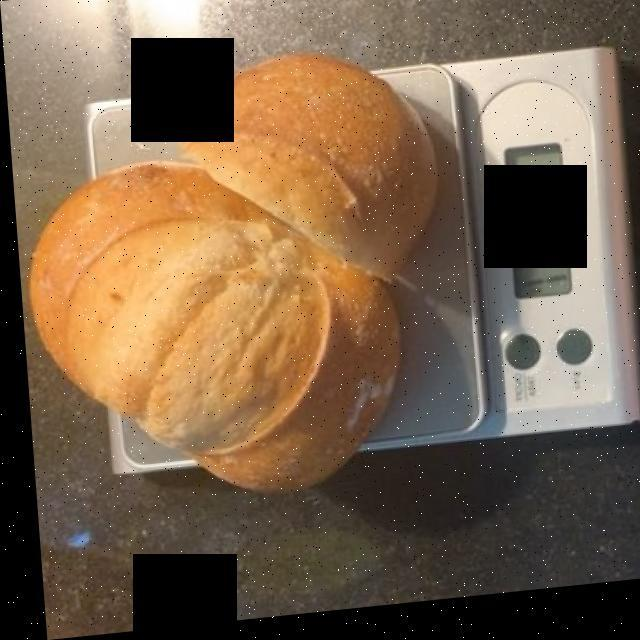bread: (24, 45, 474, 507)
